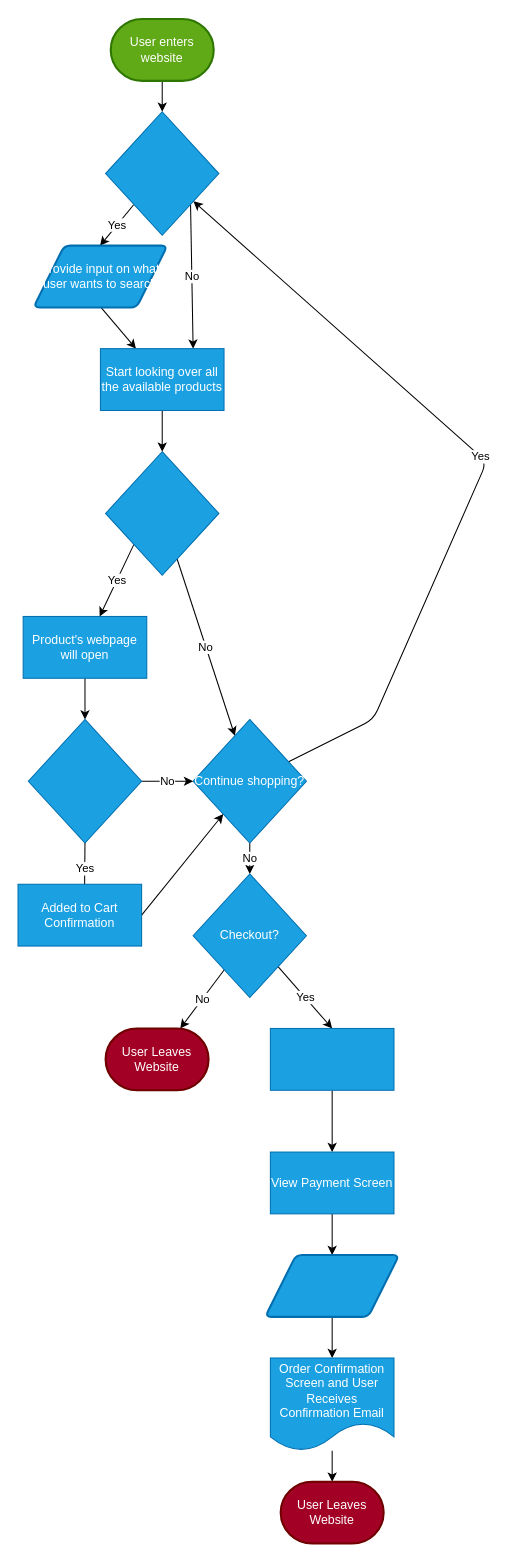
Some shapes in this 513 by 1561 pixel diagram are drawn without their labels. The shapes that lost their labels are listed below. From the top down, each one's box as (x1, y1, x2, y2) in pixels, then its label:
(105, 111, 219, 235): Search for a specific product
(105, 451, 219, 575): View a specific product
(27, 718, 142, 843): Add to Cart?
(269, 1027, 394, 1090): View Cart Screen
(264, 1254, 400, 1317): Input Payment Info
